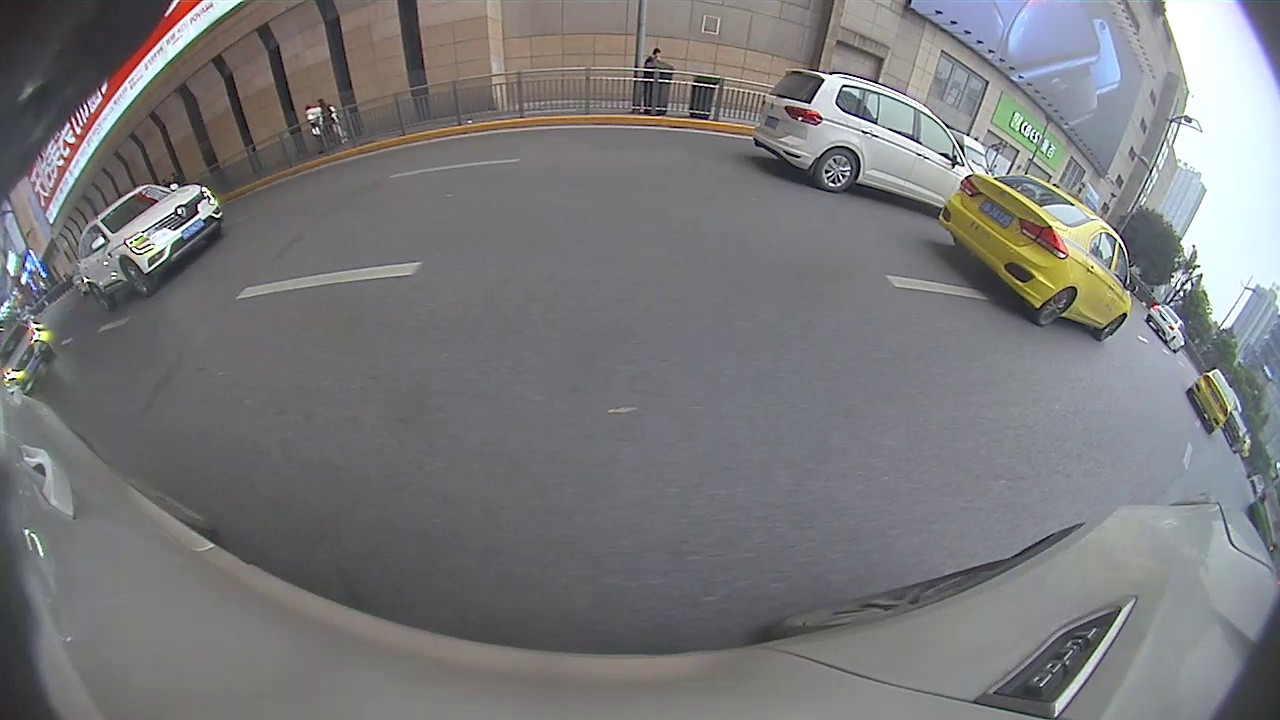car: (938, 172, 1140, 344), (751, 68, 975, 208), (75, 181, 223, 314), (1184, 368, 1238, 436), (1143, 301, 1189, 355)
front: (119, 258, 154, 300), (1095, 314, 1127, 343)
rear: (815, 150, 859, 193), (1034, 288, 1078, 330), (87, 283, 115, 314)
